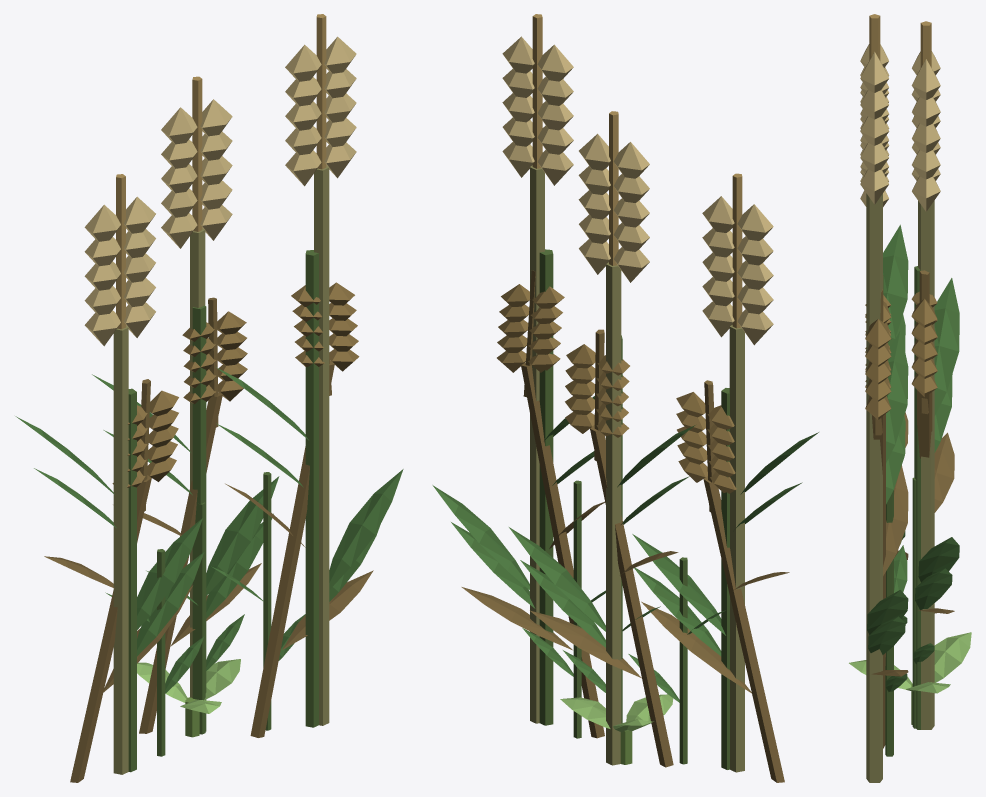
File: winter_wheat.glb
3 views of the same model, side by side, from view 1: azimuth 30°, elevation 25°; view 2: azimuth 150°, elevation 25°; view 3: azimuth 270°, elevation 25° (orthographic). The views are drawn at different scales.
Visible parts, largest first — view 1: stage3, dead, stage2, stage1, stage0; view 2: stage3, dead, stage2, stage1, stage0; view 3: stage3, dead, stage2, stage1, stage0.
Boxes of the visible parts, left/top/right/bottom form: stage3: left=15, top=14, right=403, bottom=774; dead: left=44, top=282, right=373, bottom=782; stage2: left=34, top=250, right=380, bottom=772; stage1: left=105, top=472, right=305, bottom=756; stage0: left=137, top=659, right=240, bottom=737; stage3: left=432, top=14, right=818, bottom=772; dead: left=461, top=270, right=789, bottom=782; stage2: left=451, top=249, right=802, bottom=769; stage1: left=522, top=480, right=725, bottom=764; stage0: left=560, top=694, right=673, bottom=764; stage3: left=860, top=14, right=959, bottom=782; dead: left=865, top=270, right=954, bottom=748; stage2: left=868, top=266, right=952, bottom=729; stage1: left=885, top=477, right=934, bottom=756; stage0: left=849, top=632, right=971, bottom=724.
Bounding box in the file's own units: 0.66 × 1.14 × 0.1678.
